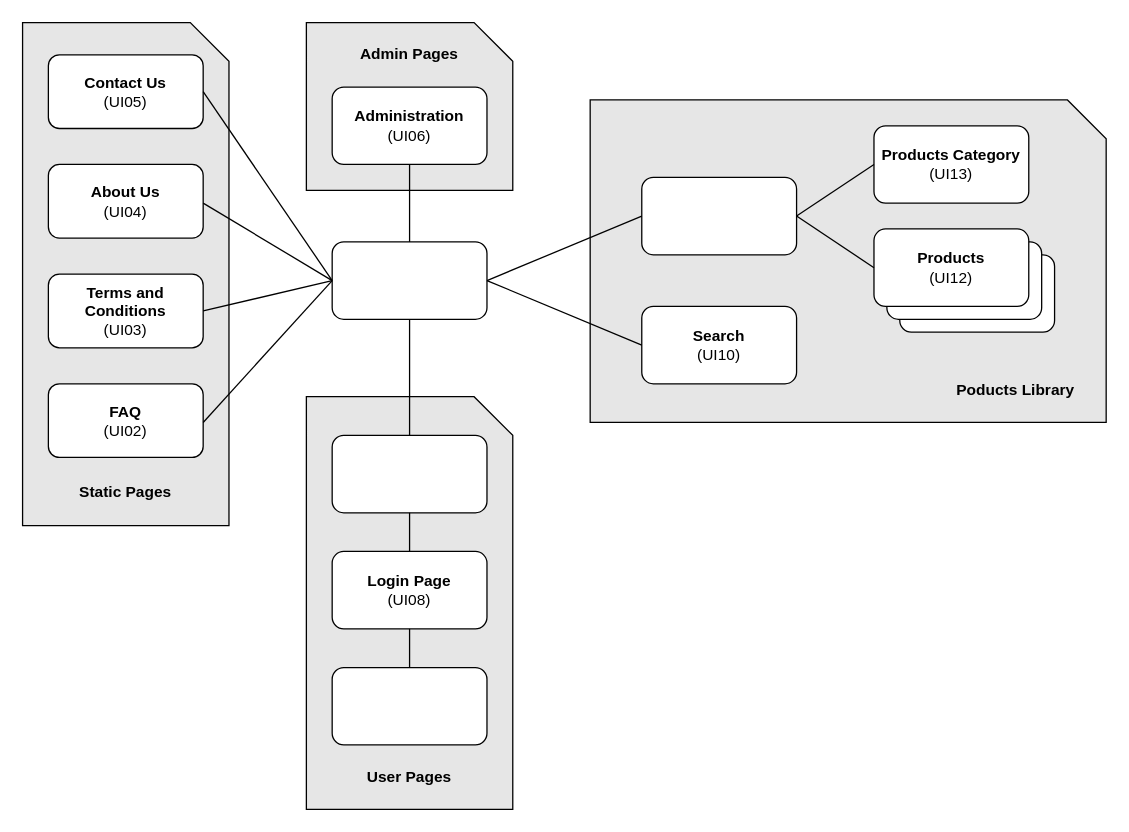
The diagram is 1129 pixels wide and 832 high, and some of its shapes have lost their labels. The box of each missing label's shape, as (x1, y1, x2, y2) in pixels:
Edit Profile (UI09): (331, 666, 487, 745)
Homepage (UI01): (331, 241, 487, 319)
Products Catalog (UI11): (640, 176, 797, 255)
User Profile (UI07): (331, 434, 487, 513)
